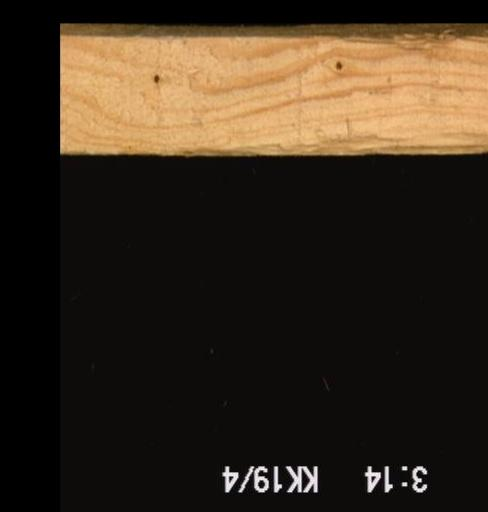small_knot: (333, 59, 343, 72), (151, 72, 161, 85)
